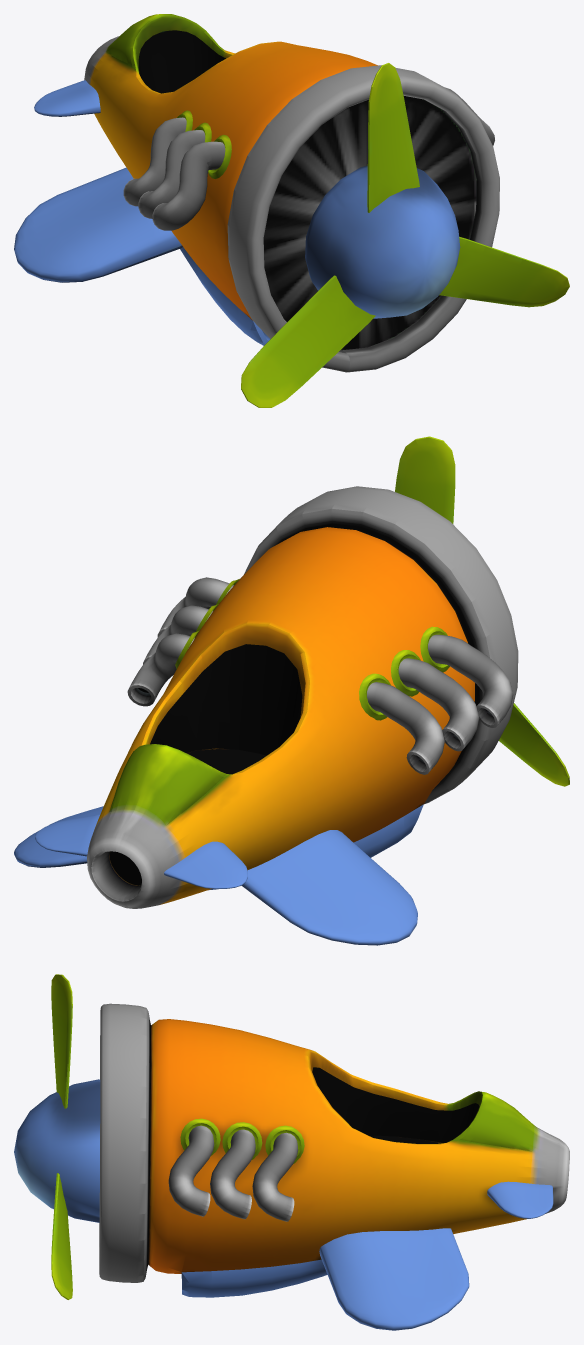
The model's file is seymourplane_triangulate.dae.
3 views of the same model, one above another, from view 1: azimuth 30°, elevation 25°; view 2: azimuth 150°, elevation 25°; view 3: azimuth 270°, elevation 25° (orthographic). The views are drawn at different scales.
Parts seen in each view (by area): view 1: plane, prop; view 2: plane, prop; view 3: plane, prop.
Boxes of the visible parts, x1,y1,x2,y2 form: plane: (14,14,499,372); prop: (241,63,569,407); plane: (14,486,518,945); prop: (395,436,569,786); plane: (14,1003,569,1330); prop: (51,974,72,1299).
Size of the model in its own units: 7.59 by 6.8 by 11.16.
2 materials, 2 textured.
